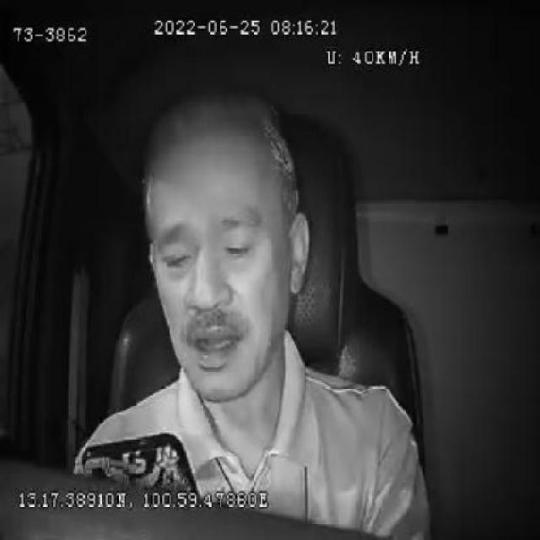phone: (79, 428, 201, 492)
